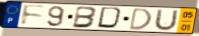9: (47, 5, 66, 28)
B: (71, 6, 99, 29)
D: (95, 6, 125, 31), (128, 7, 154, 31)
F: (21, 4, 47, 27)
U: (152, 8, 179, 32)
